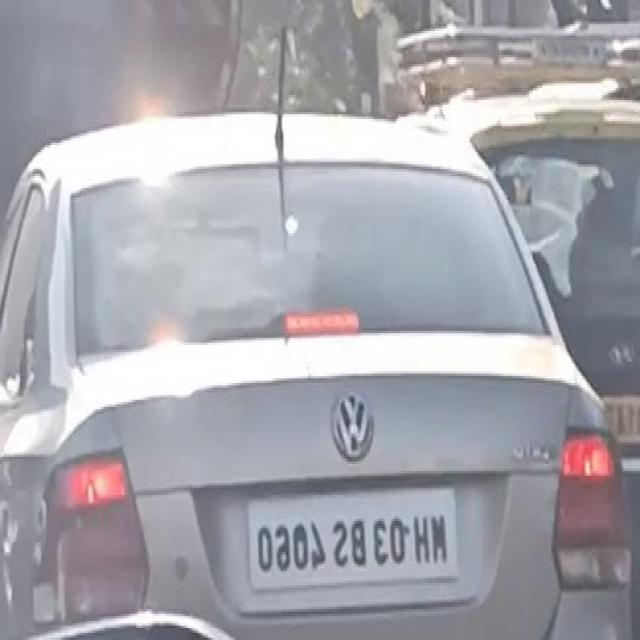license_plate: (243, 476, 464, 610)
